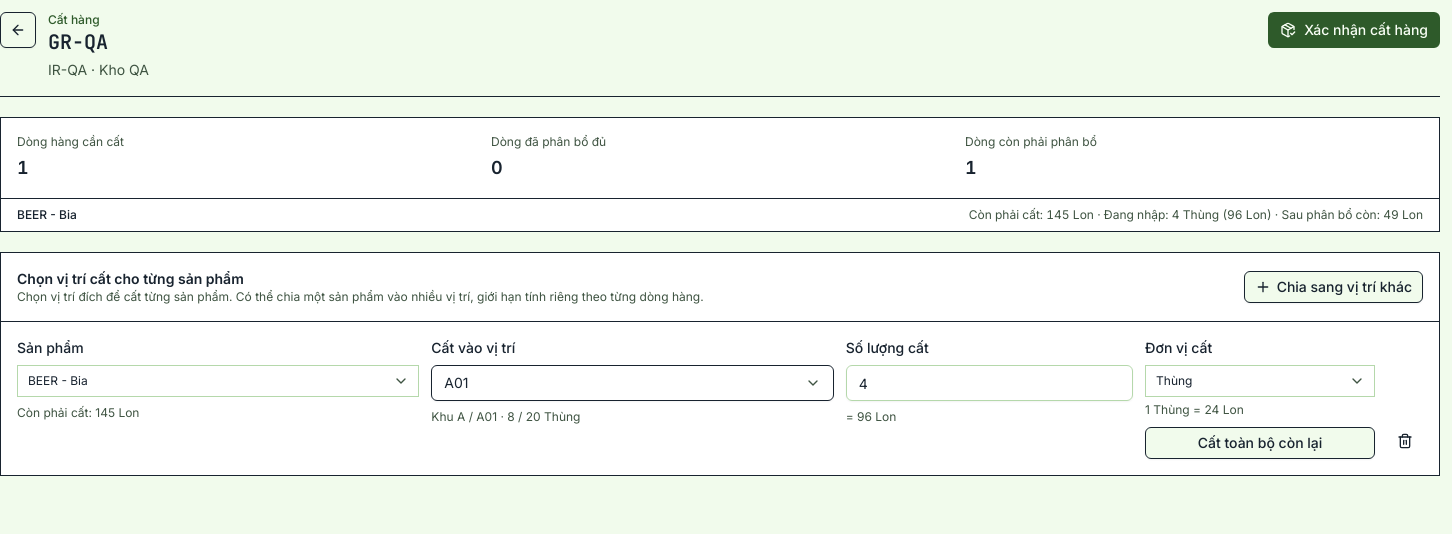
Scenario: put-away operational-unit form › requires correction instead of rounding when the chosen unit cannot represent the physical quantity
Click the button "Cất toàn bộ còn lại" at (1260, 443), box [1145,427,1375,459]
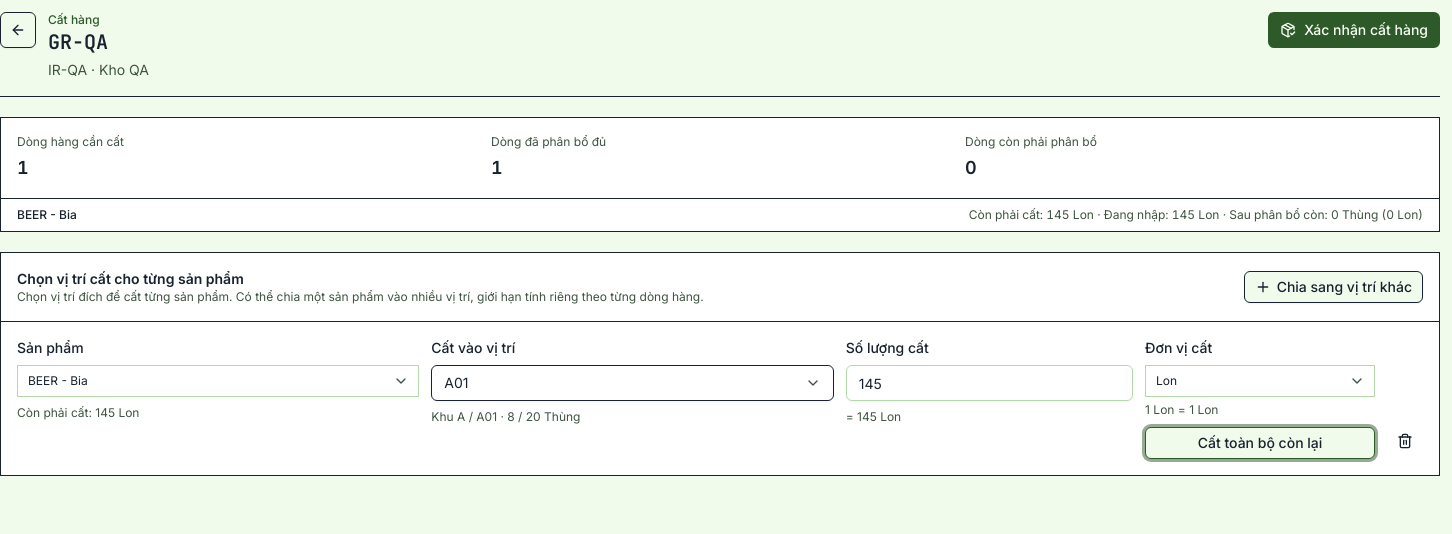
Select "Thùng" in the dropdown labelled "Đơn vị cất" at (1260, 381), box [1145,365,1375,397]
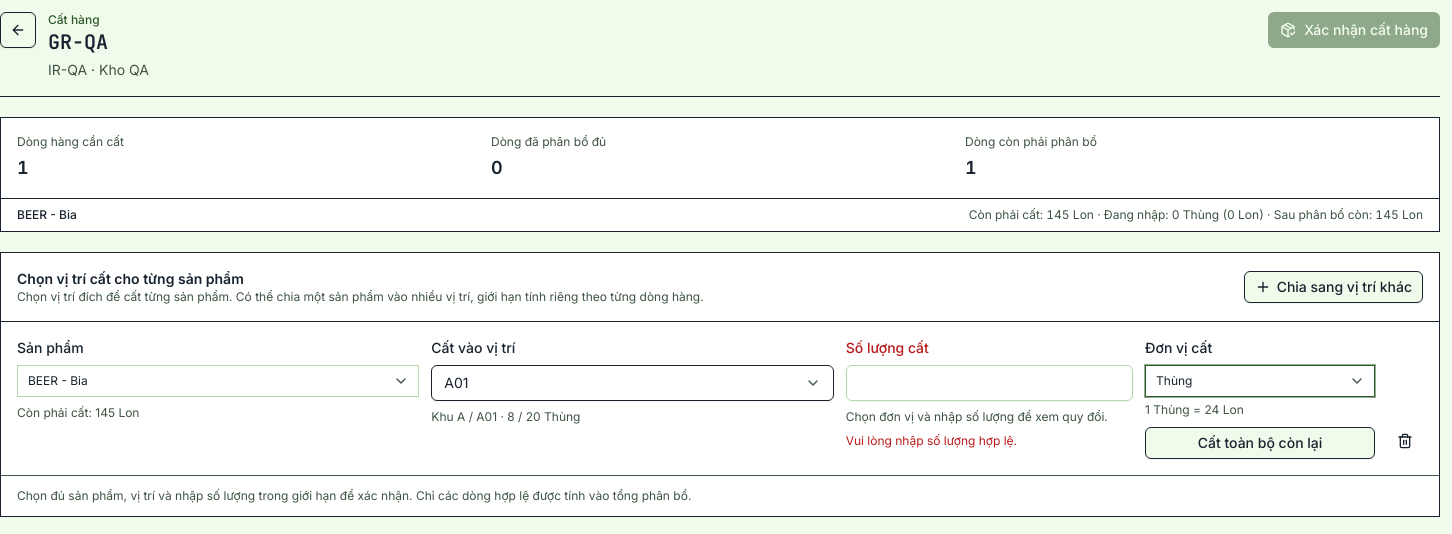
Expected: the number field labelled "Số lượng cất" is not empty, [846,365,1133,401]
Expected: the button "Xác nhận cất hàng" is disabled, [1268,12,1440,48]
Click the button "Cất toàn bộ còn lại" at (1260, 443), box [1145,427,1375,459]
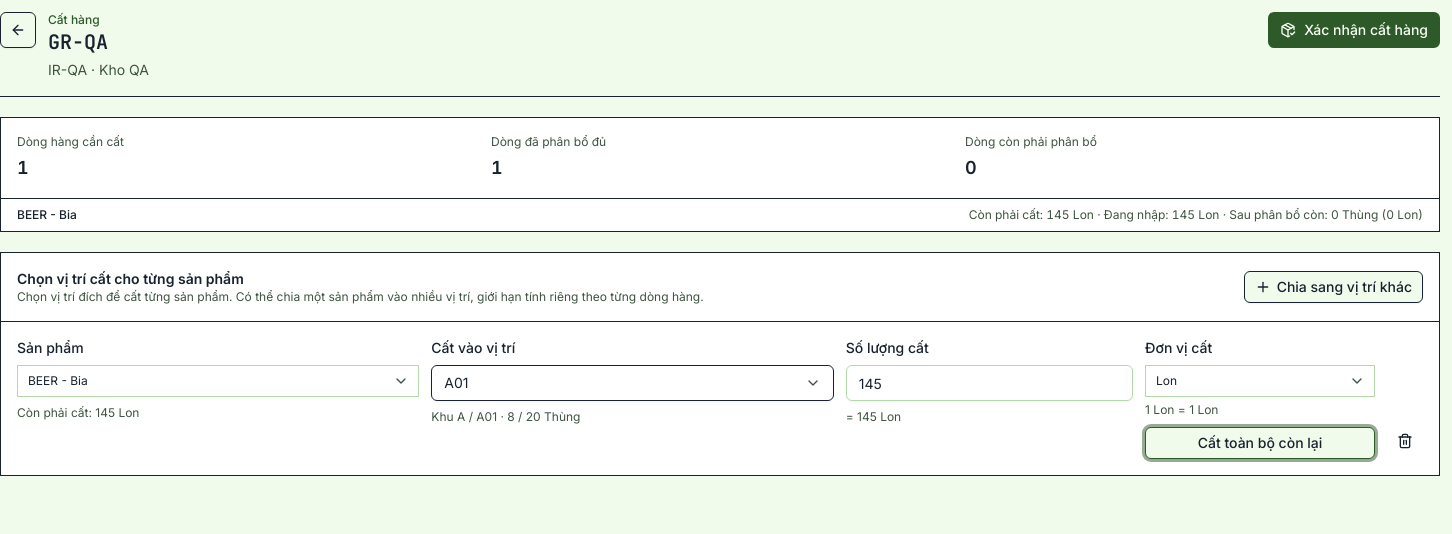
Expected: the number field labelled "Số lượng cất" holds "145", [846,365,1133,401]
Expected: the button "Xác nhận cất hàng" is enabled, [1268,12,1440,48]
